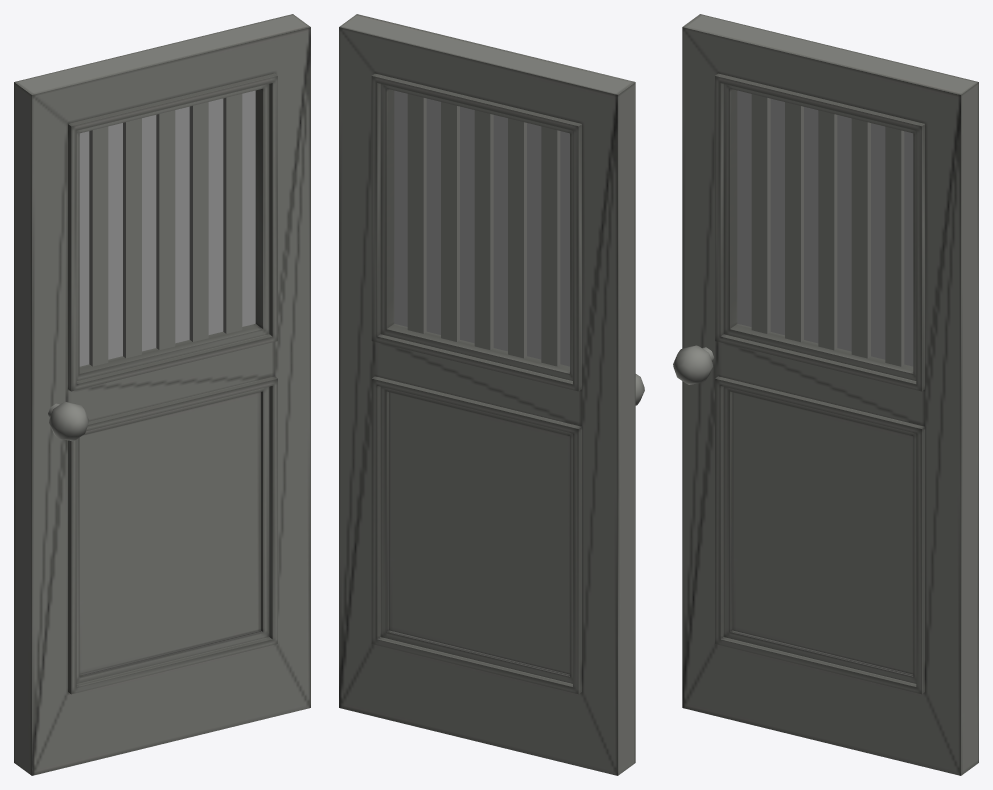
Rendered from OUTSIDE_DOOR.fbx.
3 views of the same model, side by side, from view 1: azimuth 30°, elevation 25°; view 2: azimuth 150°, elevation 25°; view 3: azimuth 330°, elevation 25° (orthographic).
Visible parts, largest first — view 1: OUTSIDE_DOOR1; view 2: OUTSIDE_DOOR1; view 3: OUTSIDE_DOOR1.
Boxes of the visible parts, left/top/right/bottom form: OUTSIDE_DOOR1: left=14, top=14, right=310, bottom=775; OUTSIDE_DOOR1: left=339, top=14, right=644, bottom=775; OUTSIDE_DOOR1: left=673, top=14, right=978, bottom=775.
Size of the model in its own units: 90 by 210 by 24.78.
